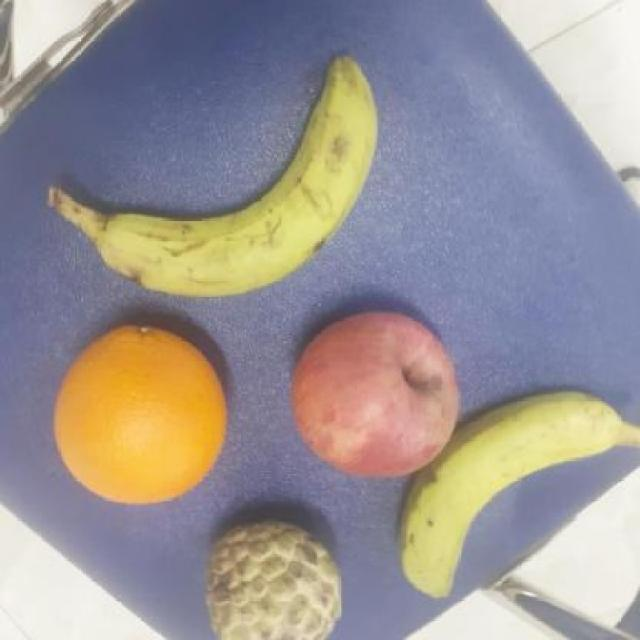apple: (284, 309, 462, 480)
banana: (87, 49, 384, 306), (390, 385, 632, 613)
oren: (52, 325, 236, 507)
sugar apple: (203, 522, 346, 640)
